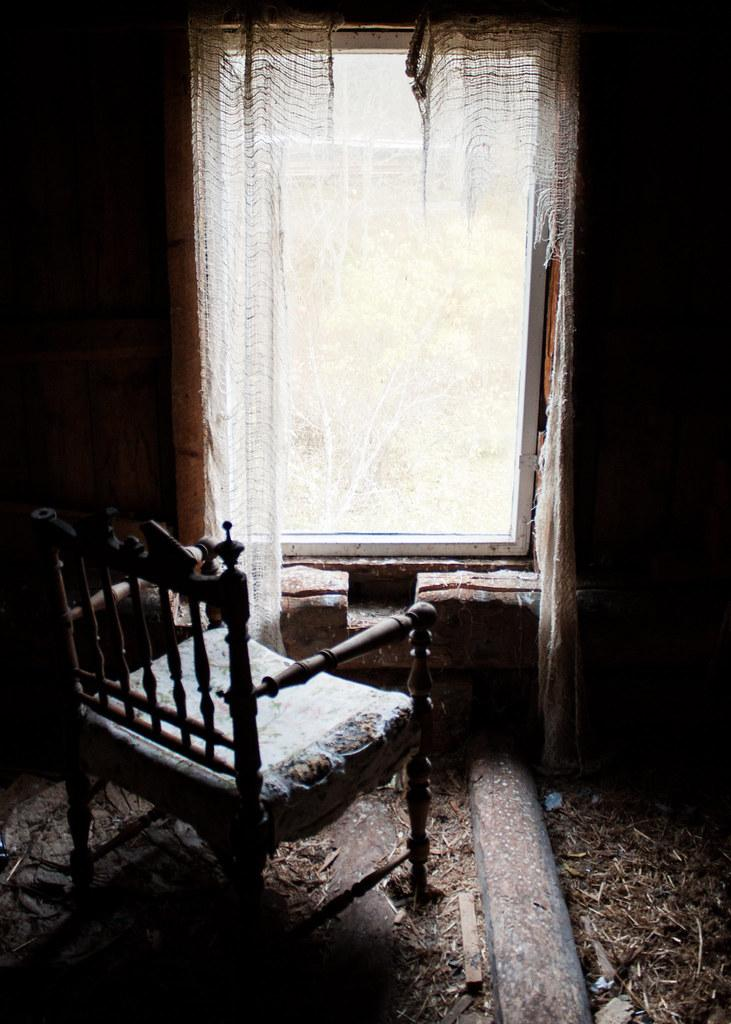chair: (31, 504, 440, 927)
